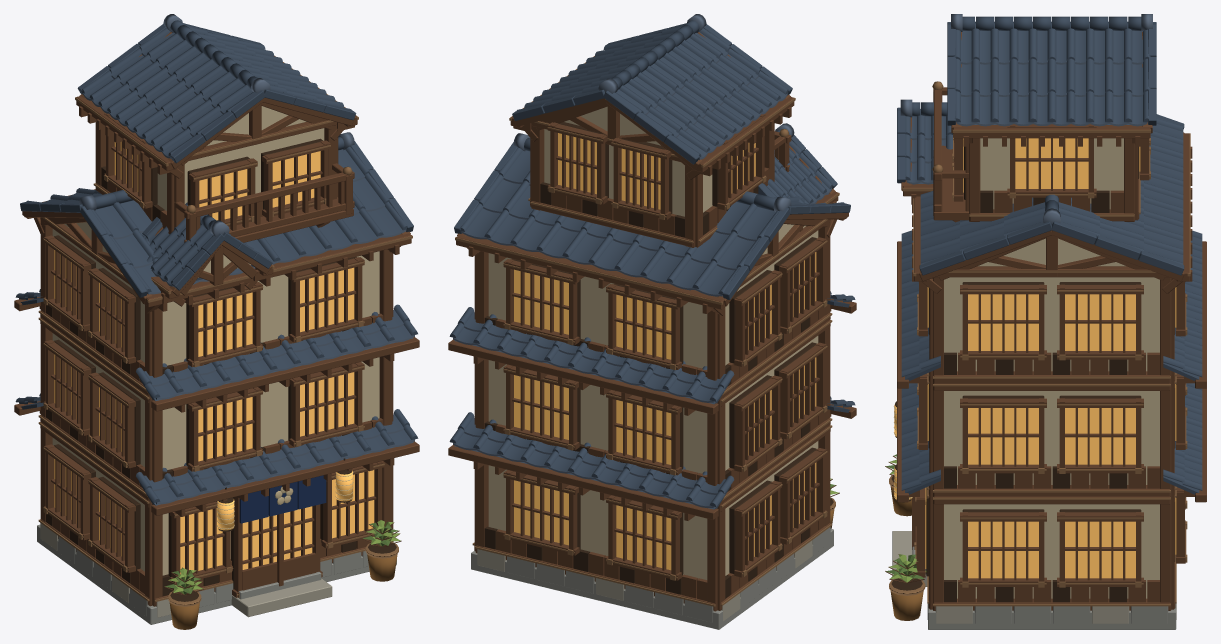
The picture shows the model from 3 angles, left to right: view 1: azimuth 30°, elevation 25°; view 2: azimuth 150°, elevation 25°; view 3: azimuth 270°, elevation 25°; orthographic projection. The views are drawn at different scales.
Parts seen in each view (by area): view 1: compact_villa_3_geometry, compact_villa_3_geometry ceramic; view 2: compact_villa_3_geometry, compact_villa_3_geometry ceramic; view 3: compact_villa_3_geometry, compact_villa_3_geometry ceramic.
Part boxes in pixels (x1,y1,x2,y2): compact_villa_3_geometry: (14, 32, 419, 629); compact_villa_3_geometry ceramic: (15, 14, 418, 505); compact_villa_3_geometry: (448, 32, 856, 629); compact_villa_3_geometry ceramic: (449, 14, 855, 509); compact_villa_3_geometry: (885, 32, 1206, 629); compact_villa_3_geometry ceramic: (897, 14, 1202, 494).
Bounding box in the file's own units: 0.99 × 1.75 × 0.9289.
